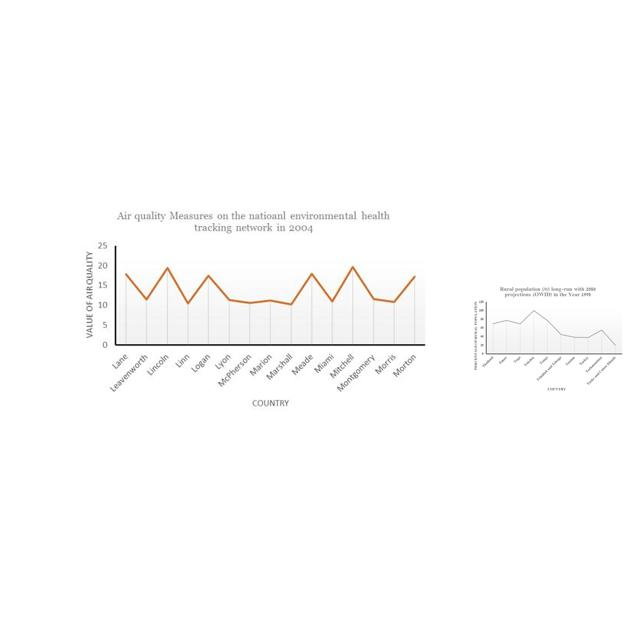Graph: (75, 204, 432, 414), (471, 285, 624, 392)
